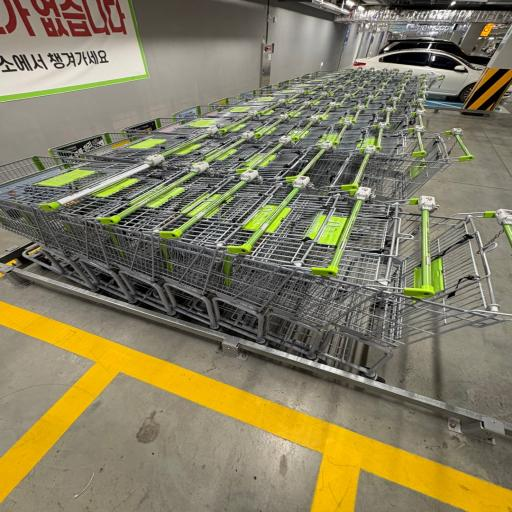combined_cart: (0, 152, 512, 410), (118, 114, 480, 198), (34, 124, 391, 205)
